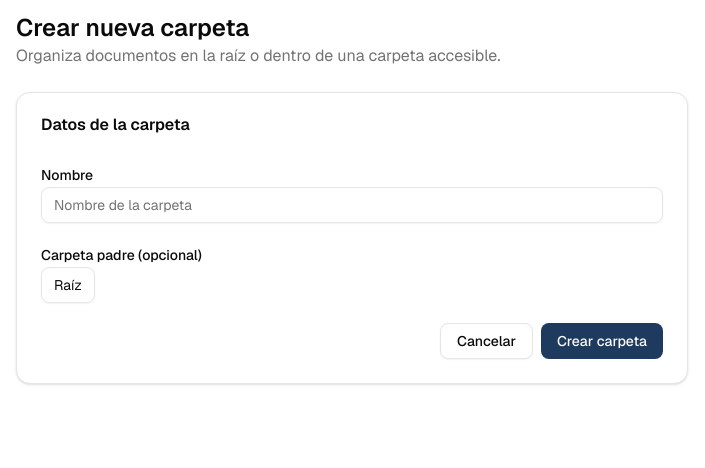
directories pages › validates creation and shows API errors
The image size is (705, 468).
Click the button "Crear carpeta" at {"x": 602, "y": 341}, box [541,323,663,359]
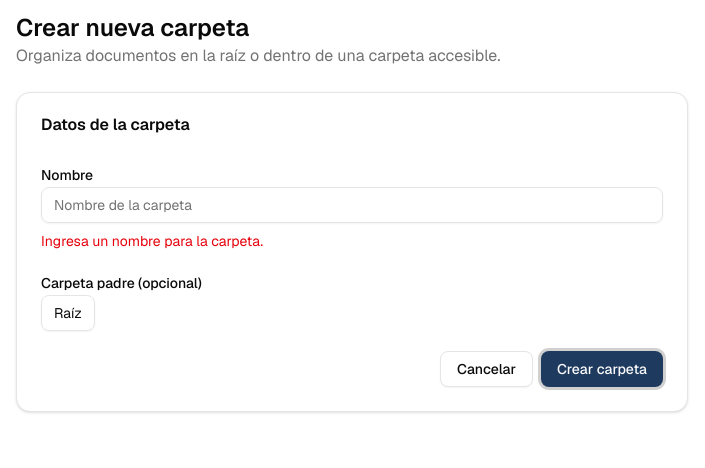
Expected: the text "Ingresa un nombre para la carpeta." is shown, [41,232,263,250]
Type "Nuevo" into the field labelled "Nombre" at {"x": 352, "y": 205}, box [41,187,663,223]
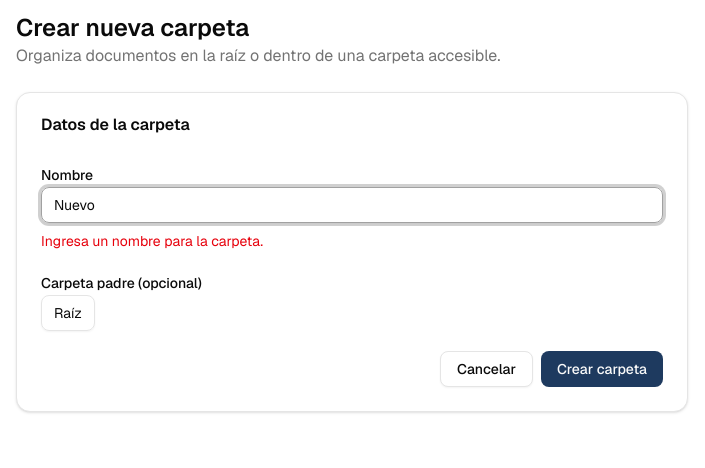
Click the button "Crear carpeta" at {"x": 602, "y": 369}, box [541,351,663,387]
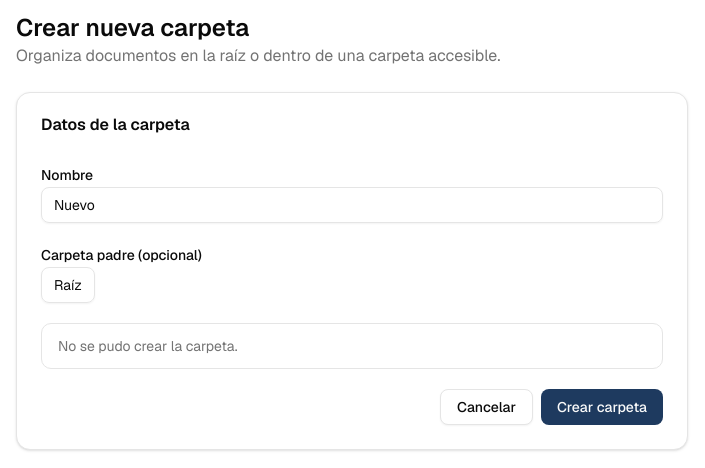
Expected: the text "No se pudo crear la carpeta." is shown, [58,337,238,355]
